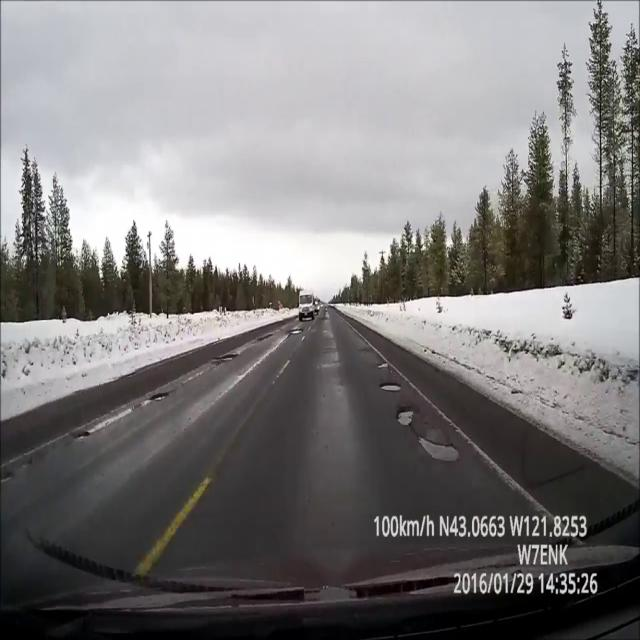Pothole: (418, 427, 458, 470), (395, 404, 417, 427), (212, 351, 238, 366), (378, 380, 404, 394), (72, 427, 92, 442), (148, 391, 170, 401), (258, 332, 272, 343), (376, 361, 391, 369), (289, 328, 303, 335)
